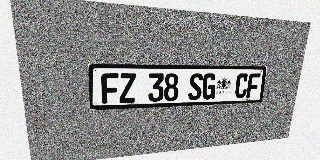3: (148, 73, 164, 102)
8: (164, 73, 179, 101)
C: (234, 73, 249, 98)
F: (101, 73, 119, 104), (246, 73, 261, 98)
G: (202, 73, 217, 100)
S: (188, 73, 203, 100)
Z: (119, 73, 136, 103)
